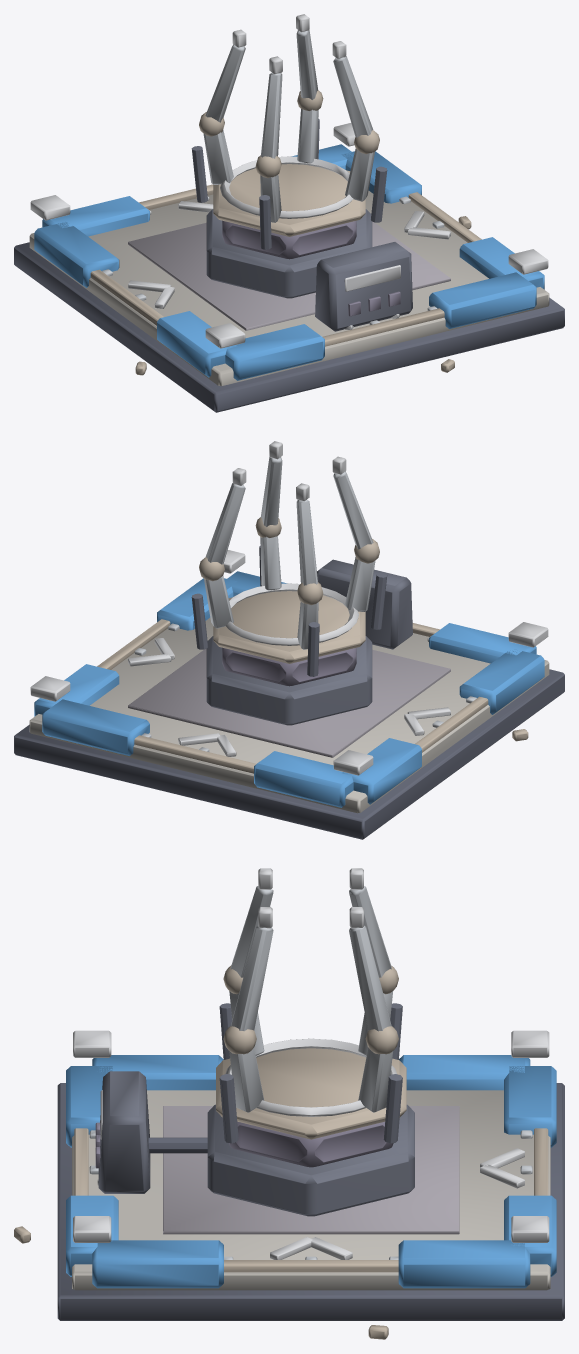
Rendered from cell_cradle.glb.
3 renders of one model, top to bottom at view 1: azimuth 30°, elevation 25°; view 2: azimuth 150°, elevation 25°; view 3: azimuth 270°, elevation 25°, orthographic. The views are drawn at different scales.
Visible parts, largest first — view 1: cell_cradle; view 2: cell_cradle; view 3: cell_cradle.
Part boxes in pixels (left/top/right/bottom): cell_cradle: left=14, top=14, right=564, bottom=412; cell_cradle: left=14, top=441, right=564, bottom=839; cell_cradle: left=14, top=868, right=564, bottom=1339.
Bounding box in the file's own units: 2.44 × 1.5 × 2.3.
